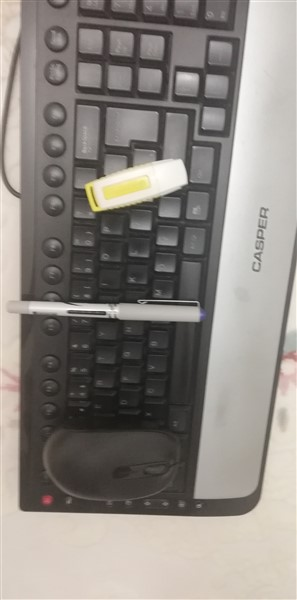flash disk: (80, 157, 190, 213)
klavye: (10, 1, 297, 515)
mouse: (37, 418, 195, 498)
pilot kalem: (6, 298, 207, 329)
